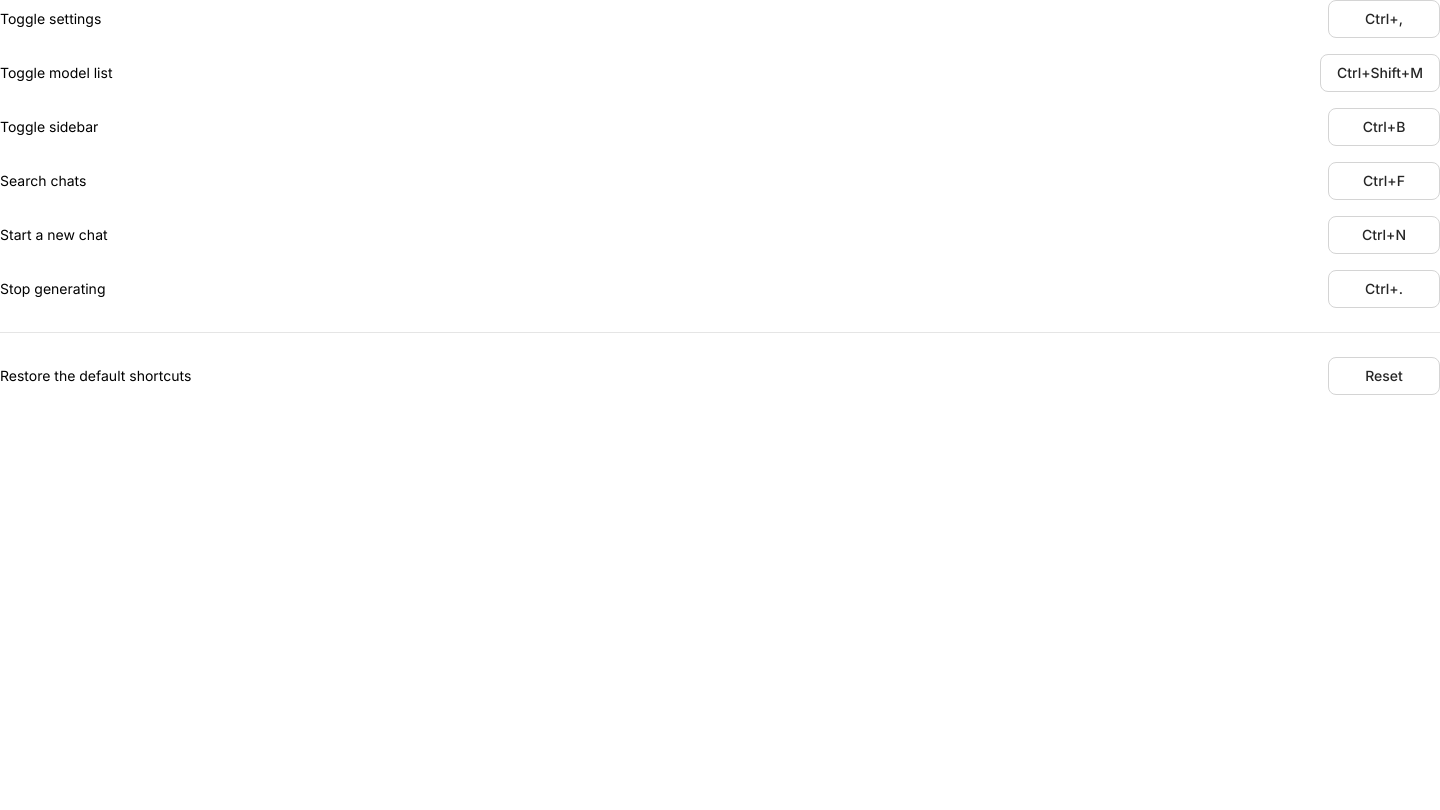
Test: ShortcutsSettings › surfaces a reset that could not be saved
The image size is (1440, 810).
Click the button "Reset". click: (1384, 376)
box: [1328,357,1439,395]
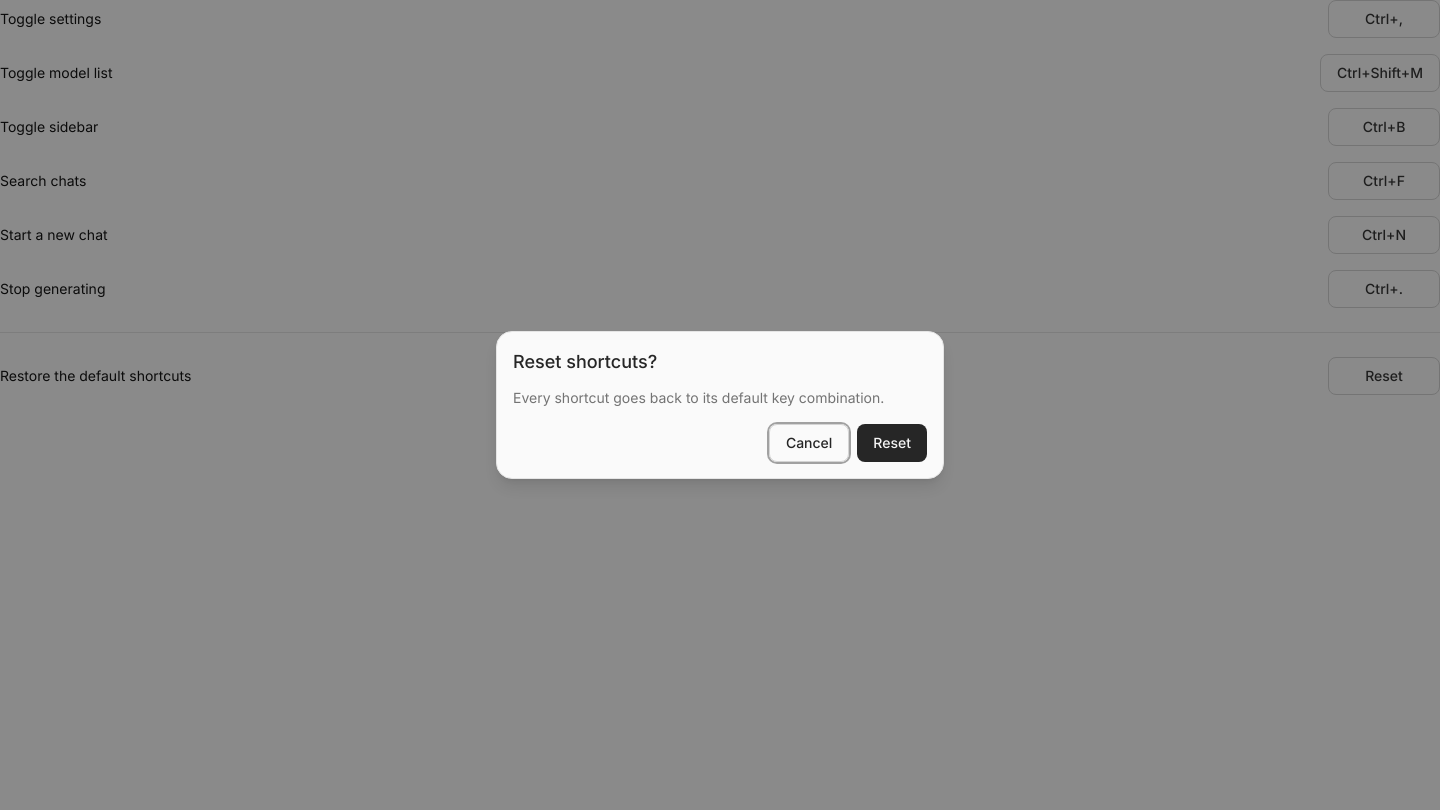
Click the button "Reset". click: (892, 443)
box: [857,424,927,462]
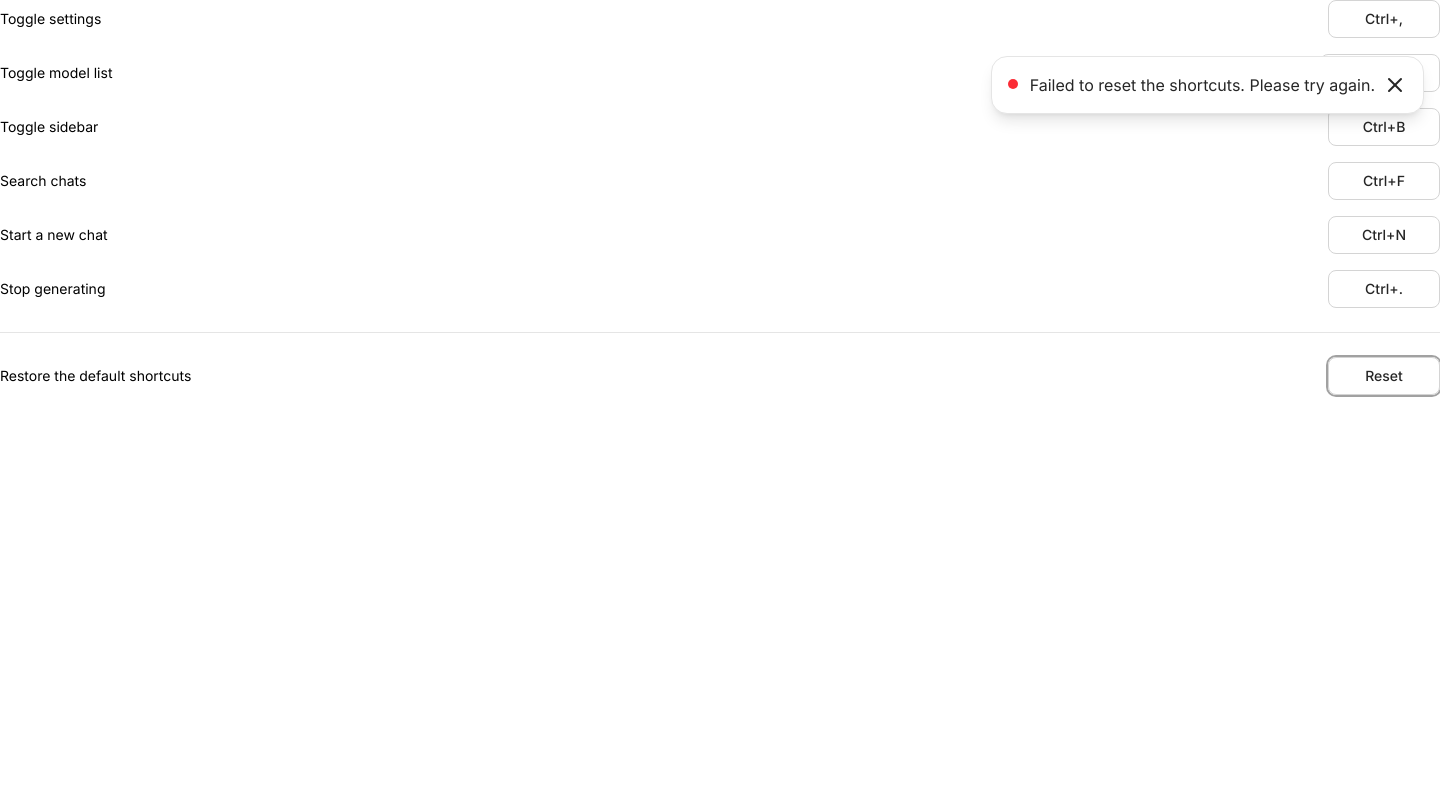
Result: the message reads "Failed to reset the shortcuts. Please try again." at [1030,75,1375,95]
